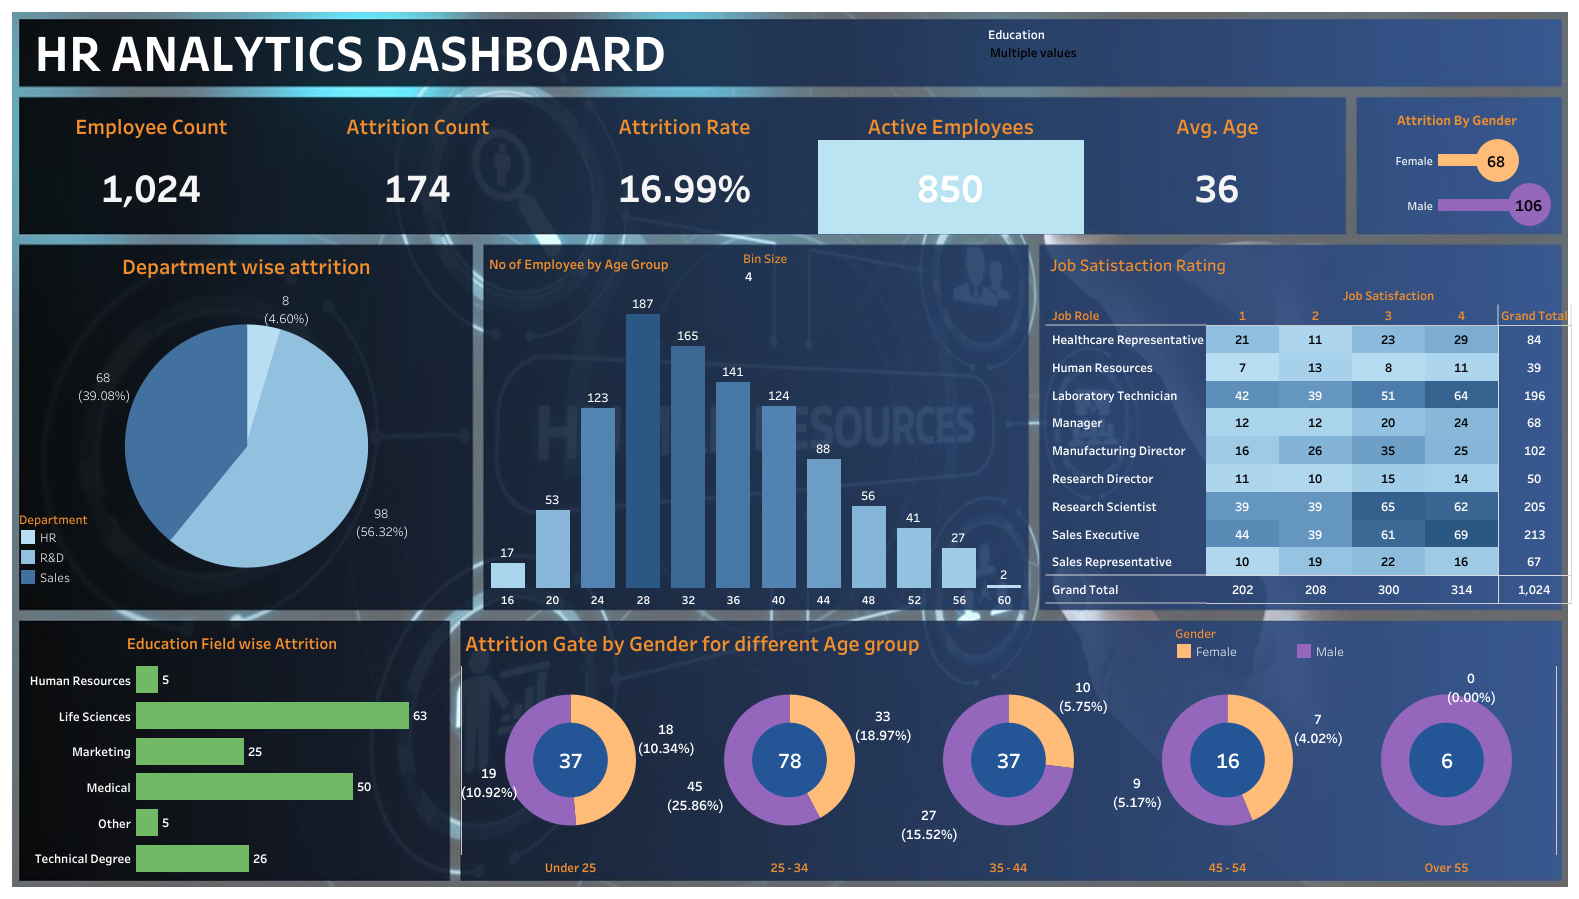

The page's visual inventory and layout, read from the dashboard file:
{"tool":"tableau","page":{"name":"HR Alalytics DASHBOARD","canvas":[1580,900],"ordinal":0},"visuals":[{"type":"image","param":"Image/HR Background final.jpg","box":[8,8,1564,884]},{"type":"filter","title":"KPI","param":"[federated.09nrm3c19gk6lr15hbjgf096z799].[none:Education:nk]","box":[988,24,351,60]},{"type":"text","box":[32,25,841,51]},{"type":"worksheet","title":"KPI","mark":"Automatic","box":[18,100,1333,134]},{"type":"worksheet","title":"Attrition By Gender","mark":"Automatic","rows":["Gender"],"cols":["Calculation_50947005481381888","Calculation_50947005481381888"],"box":[1358,104,198,123]},{"type":"worksheet","title":"Department wise attrition","mark":"Pie","box":[20,246,453,357]},{"type":"worksheet","title":"Job Satistaction Rating","mark":"Square","rows":["Job Role"],"cols":["Job Satisfaction"],"box":[1046,247,526,357]},{"type":"worksheet","title":"No of Employee by Age Group","mark":"Automatic","rows":["Employee Count"],"cols":["Age (bin)"],"box":[485,248,542,360]},{"type":"parameter","param":"[Parameters].[Parameter 1]","box":[743,248,295,72]},{"type":"legend","title":"Department wise attrition","param":"[federated.09nrm3c19gk6lr15hbjgf096z799].[none:Department:nk]","box":[18,508,184,97]},{"type":"legend","title":"Attrition Gate by Gender for different Age group","param":"[federated.09nrm3c19gk6lr15hbjgf096z799].[none:Gender:nk]","box":[1174,622,375,50]},{"type":"worksheet","title":"Attrition Gate by Gender for different Age group","mark":"Pie","rows":["Calculation_50947005514326020","Calculation_50947005514461190"],"cols":["CF_age band"],"box":[461,623,1096,254]},{"type":"worksheet","title":"Education Field wise Attrition","mark":"Automatic","rows":["Education Field"],"cols":["Calculation_50947005481381888"],"box":[16,626,432,250]}]}

Visuals, with their boxes in screenshot pixels (x1, y1, x2, y2), scaled from the page's 1580x900 canvas onto the 1579x899 screenshot:
image: {"left": 8, "top": 8, "right": 1571, "bottom": 891}
"KPI" filter: {"left": 987, "top": 24, "right": 1338, "bottom": 84}
text: {"left": 32, "top": 25, "right": 872, "bottom": 76}
"KPI" worksheet: {"left": 18, "top": 100, "right": 1350, "bottom": 234}
"Attrition By Gender" worksheet: {"left": 1357, "top": 104, "right": 1555, "bottom": 227}
"Department wise attrition" worksheet (Pie marks): {"left": 20, "top": 246, "right": 473, "bottom": 602}
"Job Satistaction Rating" worksheet (Square marks): {"left": 1045, "top": 247, "right": 1571, "bottom": 603}
"No of Employee by Age Group" worksheet: {"left": 485, "top": 248, "right": 1026, "bottom": 607}
parameter: {"left": 743, "top": 248, "right": 1037, "bottom": 320}
"Department wise attrition" legend: {"left": 18, "top": 507, "right": 202, "bottom": 604}
"Attrition Gate by Gender for different Age group" legend: {"left": 1173, "top": 621, "right": 1548, "bottom": 671}
"Attrition Gate by Gender for different Age group" worksheet (Pie marks): {"left": 461, "top": 622, "right": 1556, "bottom": 876}
"Education Field wise Attrition" worksheet: {"left": 16, "top": 625, "right": 448, "bottom": 875}
